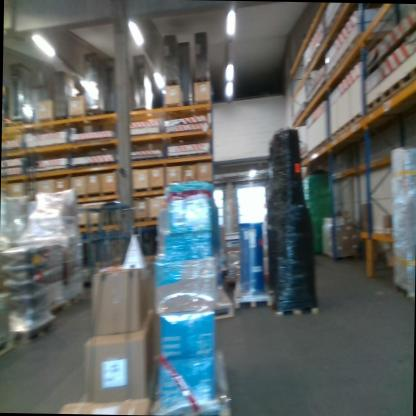pallet: (5, 310, 56, 352), (232, 287, 274, 312), (274, 296, 319, 318), (212, 292, 239, 323), (46, 298, 67, 319), (65, 287, 84, 308), (85, 109, 102, 117), (194, 75, 210, 83), (165, 78, 179, 86), (53, 114, 68, 121)
